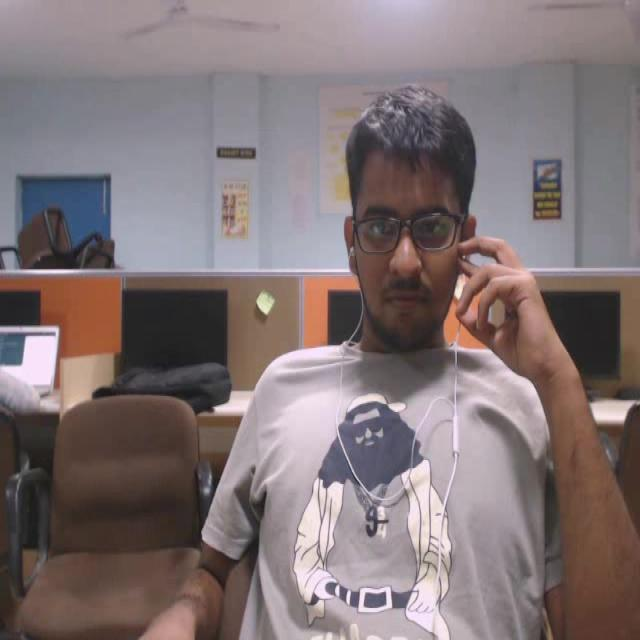Bored: (328, 61, 524, 386)
